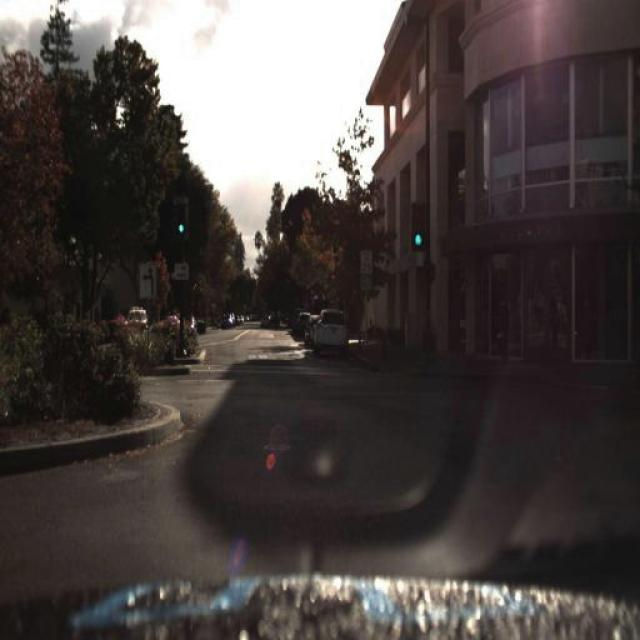semaforo: (410, 202, 428, 252), (172, 196, 190, 240)
